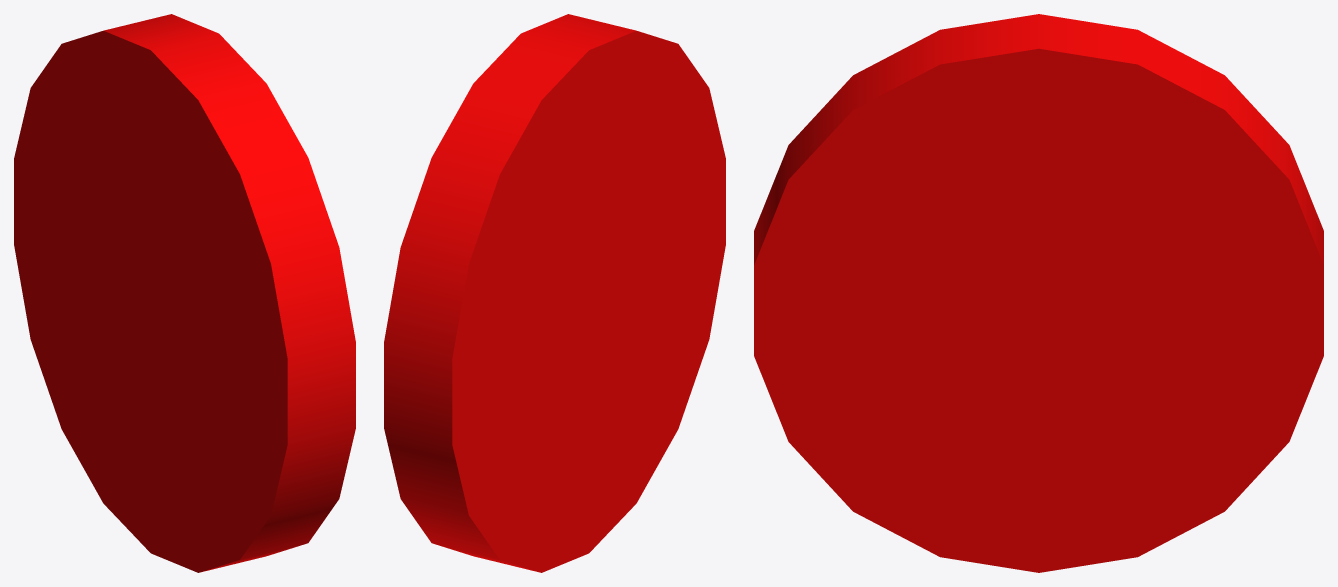
Rendered from RedCoin.FBX.
The picture shows the model from 3 angles, left to right: view 1: azimuth 30°, elevation 25°; view 2: azimuth 150°, elevation 25°; view 3: azimuth 270°, elevation 25°; orthographic projection. The views are drawn at different scales.
Parts seen in each view (by area): view 1: Cylinder001; view 2: Cylinder001; view 3: Cylinder001.
Part boxes in pixels (x1=…): Cylinder001: x1=14, y1=14, x2=355, y2=572; Cylinder001: x1=384, y1=14, x2=725, y2=572; Cylinder001: x1=754, y1=14, x2=1323, y2=572.
Bounding box in the file's own units: 14.39 × 99.72 × 101.
1 material, 1 textured.
